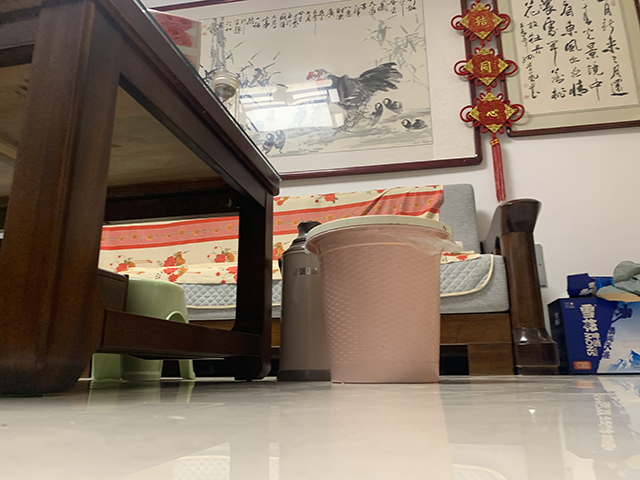sofa: (98, 182, 563, 376)
stool: (91, 277, 197, 383)
table: (1, 1, 281, 397)
trashcan: (305, 214, 455, 385)
